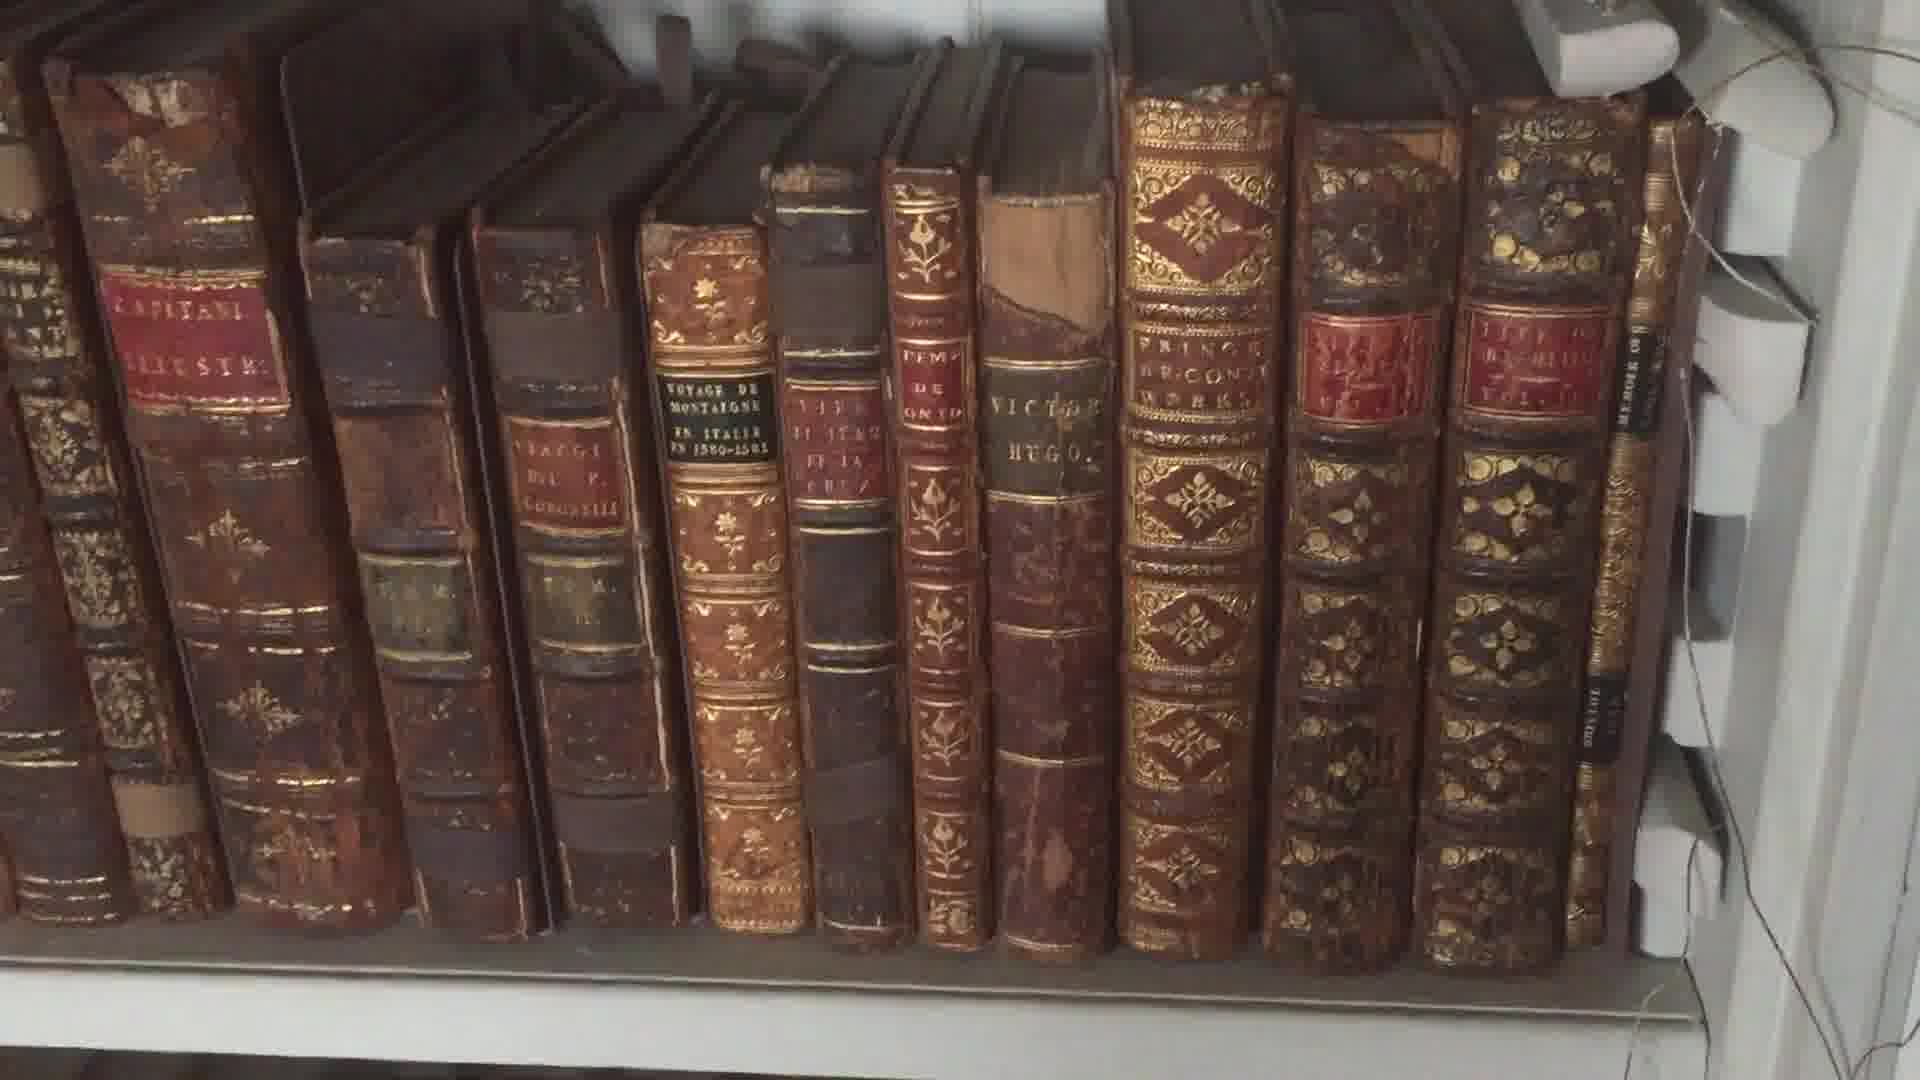Aa6-38: (24, 24, 404, 942)
Aa6-39_40: (282, 178, 687, 944)
Aa6-41: (629, 204, 829, 957)
Aa6-42: (753, 153, 936, 936)
Aa6-43: (858, 153, 1004, 975)
Aa6-44: (971, 178, 1121, 956)
Aa6-45: (1120, 87, 1280, 967)
Aa6-46-47: (1294, 112, 1597, 985)
Aa6-48: (1563, 90, 1691, 973)
